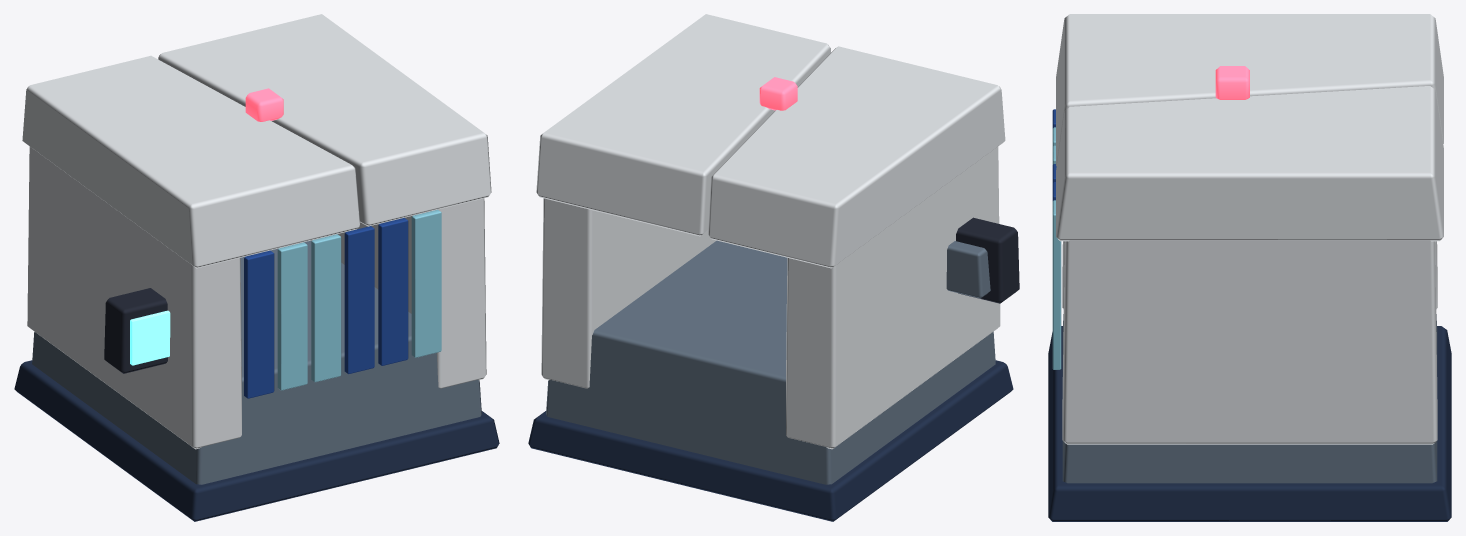
File: scanner.glb
3 renders of one model, left to right at view 1: azimuth 30°, elevation 25°; view 2: azimuth 150°, elevation 25°; view 3: azimuth 270°, elevation 25°, orthographic. The views are drawn at different scales.
Parts seen in each view (by area): view 1: scanner; view 2: scanner; view 3: scanner.
Boxes of the visible parts, x1,y1,x2,y2 form: scanner: (14, 14, 499, 521); scanner: (528, 14, 1019, 521); scanner: (1048, 14, 1451, 521).
Size of the model in its own units: 2.59 by 2.36 by 2.34.
